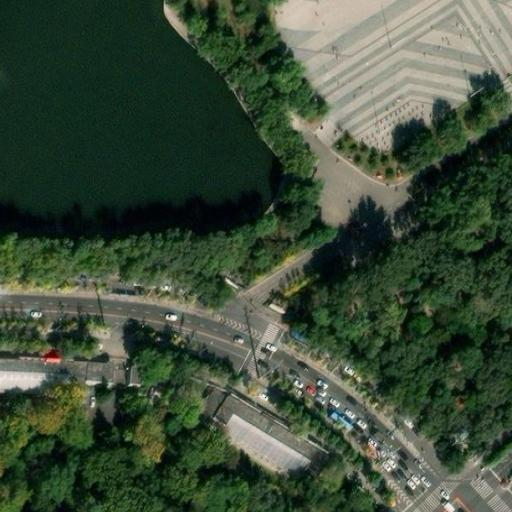building: (190, 383, 333, 491), (125, 361, 140, 384)
